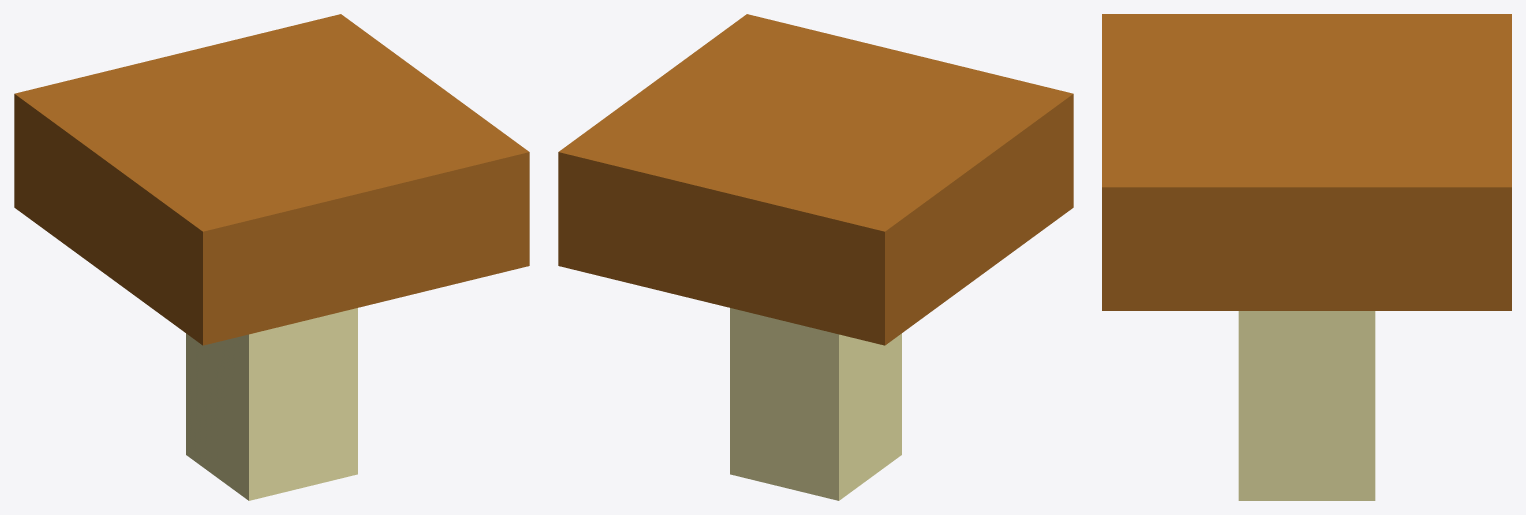
The model's file is Mushroom_1.obj.
3 views of the same model, side by side, from view 1: azimuth 30°, elevation 25°; view 2: azimuth 150°, elevation 25°; view 3: azimuth 270°, elevation 25° (orthographic). The views are drawn at different scales.
Bounding box in the file's own units: 0.3 × 0.3 × 0.3.
1 material, 1 textured.
